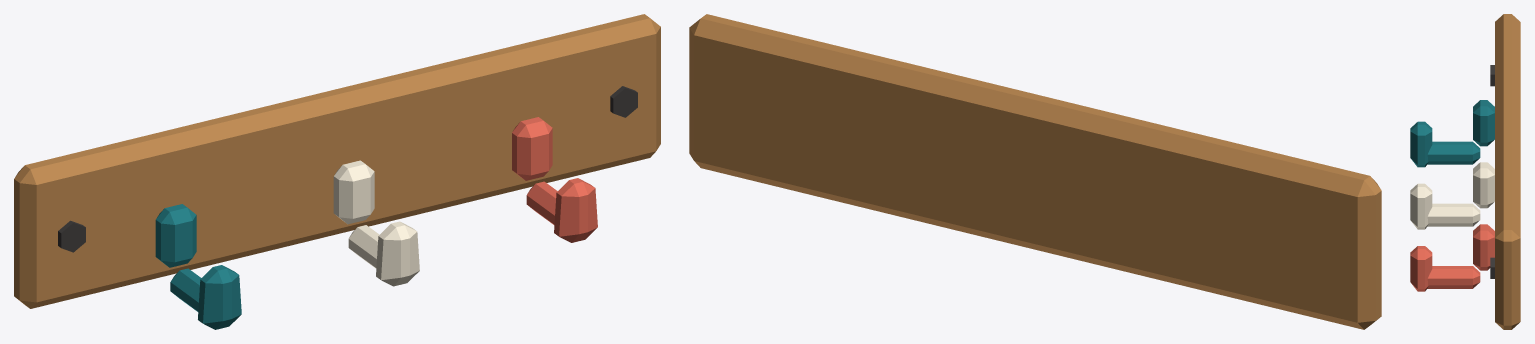
Rendered from wall_hook_rail.glb.
3 views of the same model, side by side, from view 1: azimuth 30°, elevation 25°; view 2: azimuth 150°, elevation 25°; view 3: azimuth 270°, elevation 25° (orthographic). The views are drawn at different scales.
Parts seen in each view (by area): view 1: wall_hook_rail; view 2: wall_hook_rail; view 3: wall_hook_rail.
Boxes of the visible parts, x1,y1,x2,y2 form: wall_hook_rail: [14, 14, 660, 329]; wall_hook_rail: [689, 14, 1381, 329]; wall_hook_rail: [1410, 14, 1520, 329].
Size of the model in its own units: 0.72 by 0.1578 by 0.15.
